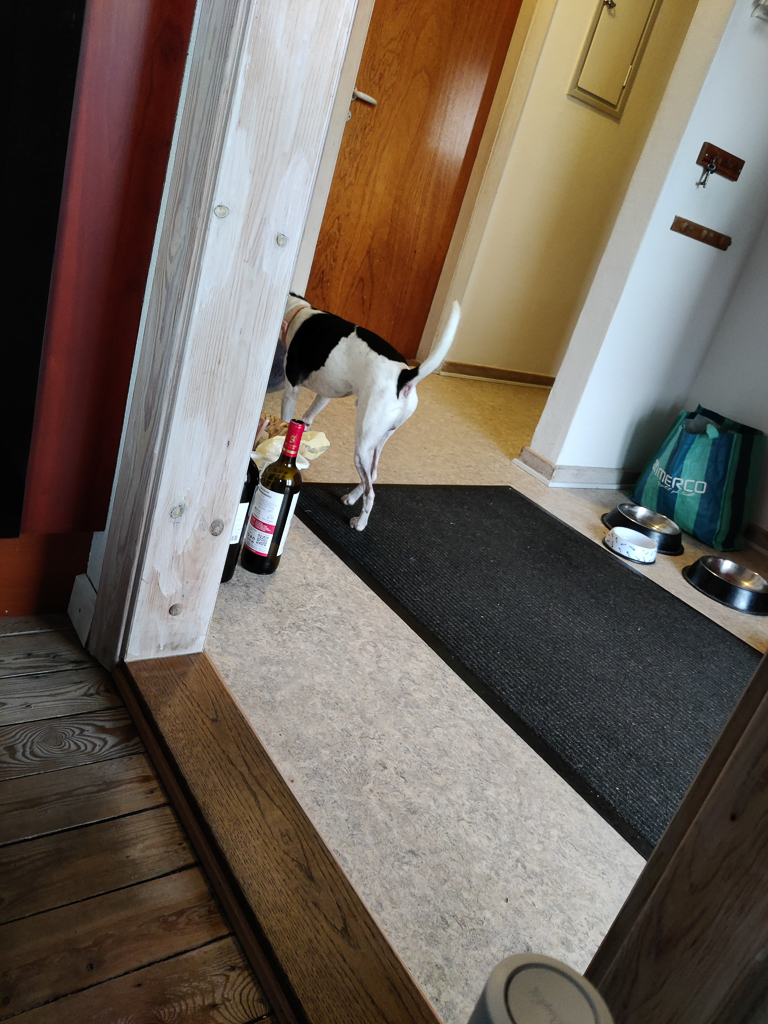Dog: (268, 266, 473, 542)
